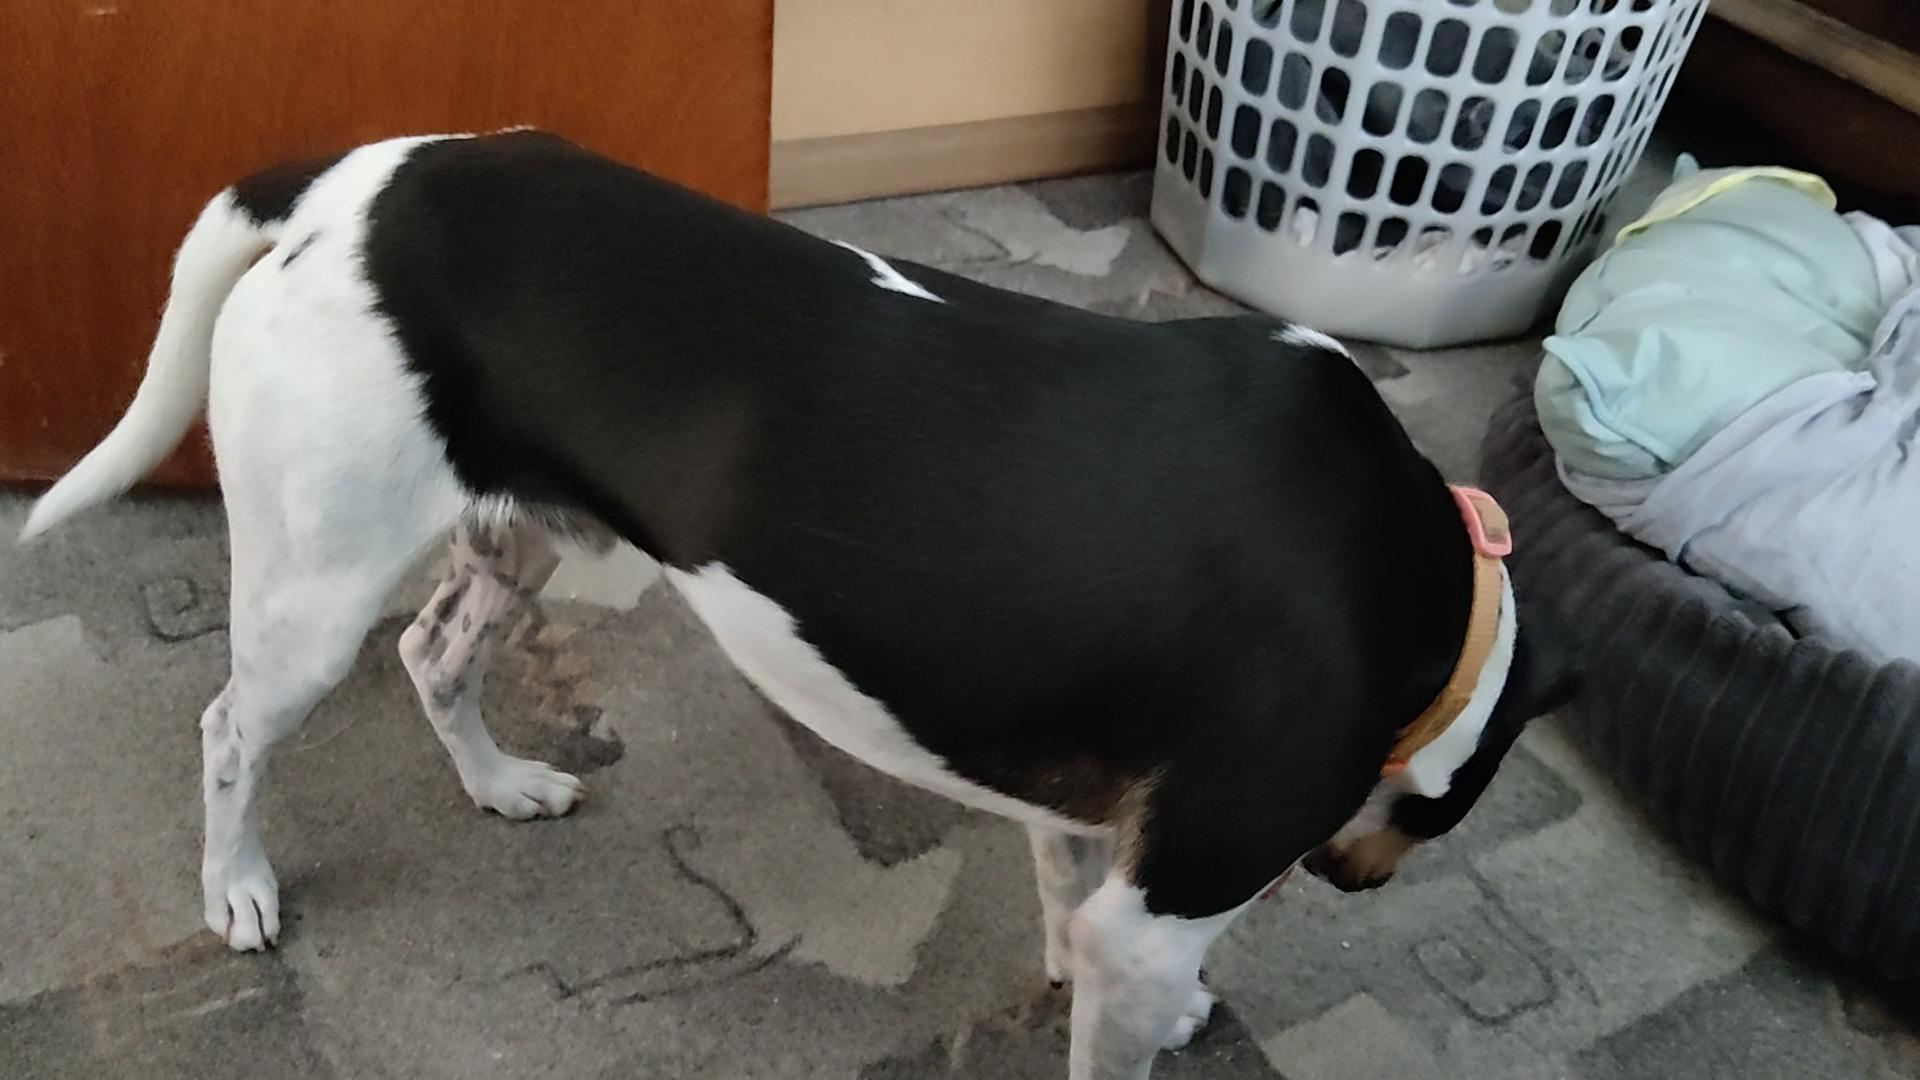Dog: (18, 123, 1589, 1079)
